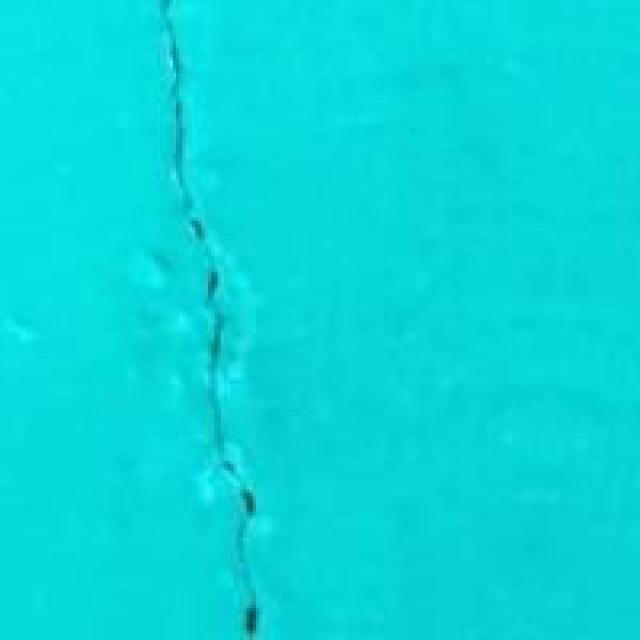Crack: (128, 3, 288, 637)
